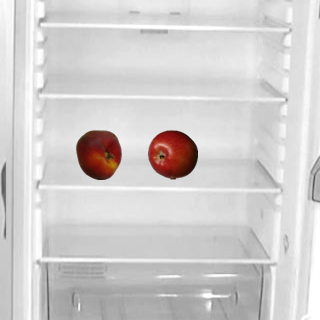Apple Braeburn: (147, 129, 197, 179)
Nectarine Flat: (73, 129, 123, 179)
